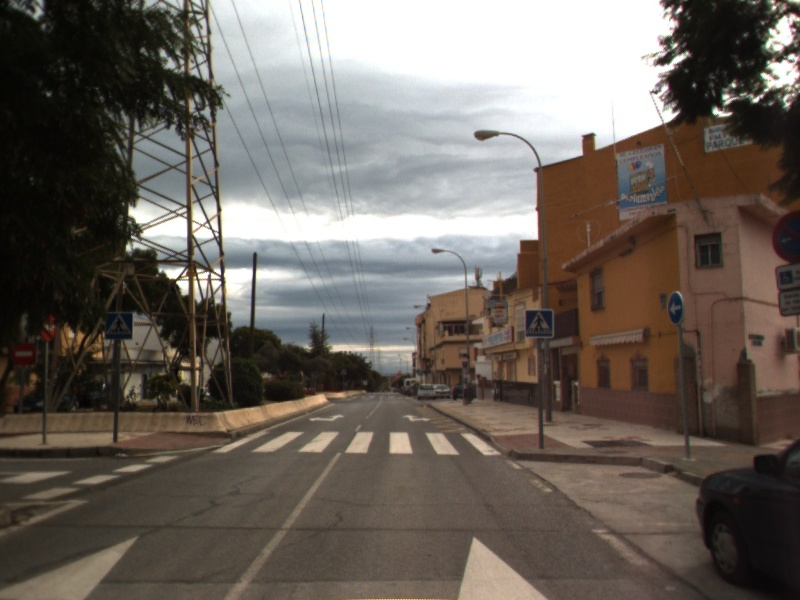STRAIGHT_LEFT: (307, 412, 347, 424)
STRAIGHT_RIGHT: (401, 412, 433, 424)
